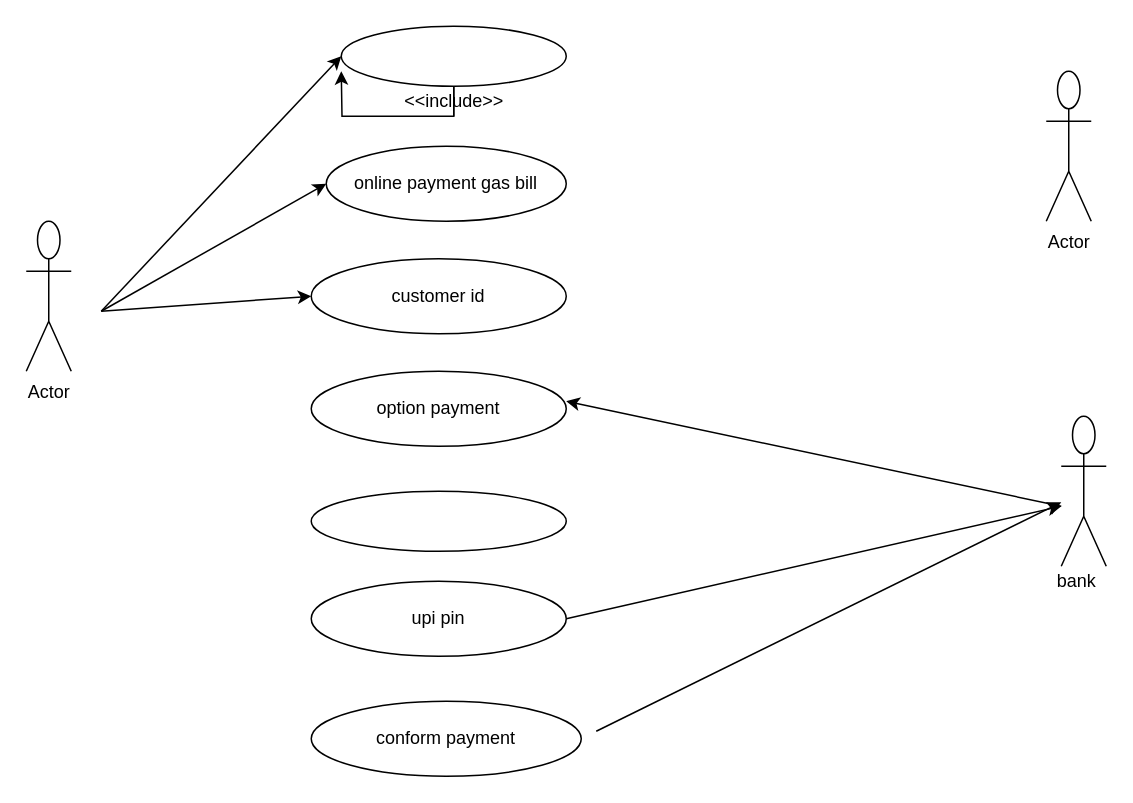
The diagram is 1133 pixels wide and 803 high, and some of its shapes have lost their labels. The shapes that lost their labels are listed below. From the top down, each one's centre as x and y in pixels, then its label:
At (453,55): "login".
At (438,520): "selected upi".
